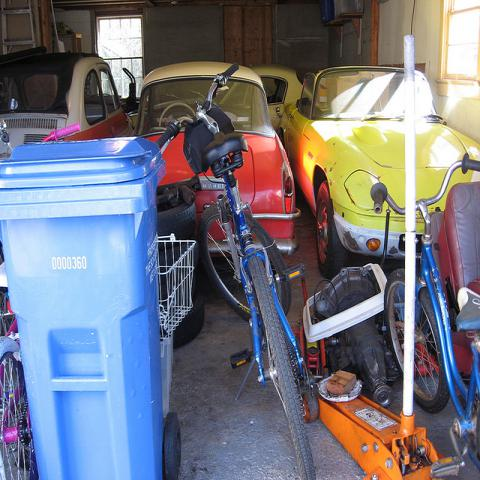car: (278, 64, 480, 275), (138, 61, 298, 249), (2, 55, 131, 156), (158, 125, 228, 246), (250, 64, 304, 134)
